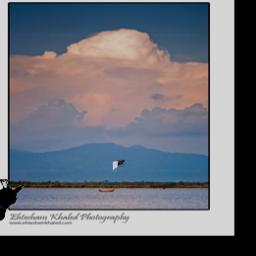Crow: (0, 178, 25, 221), (114, 161, 132, 215)
